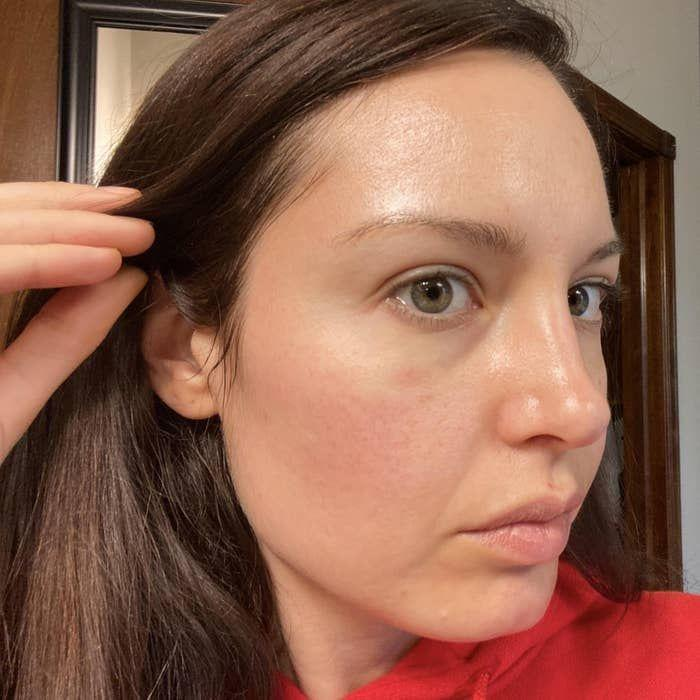Oily-Skin: (326, 98, 660, 608), (304, 166, 490, 530), (320, 416, 488, 488), (448, 116, 626, 178)
